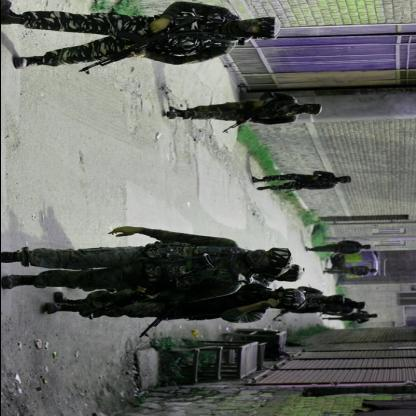rifle: (82, 258, 207, 322), (80, 15, 186, 75), (223, 99, 275, 133), (139, 301, 187, 337), (287, 176, 327, 192), (269, 305, 300, 325)
